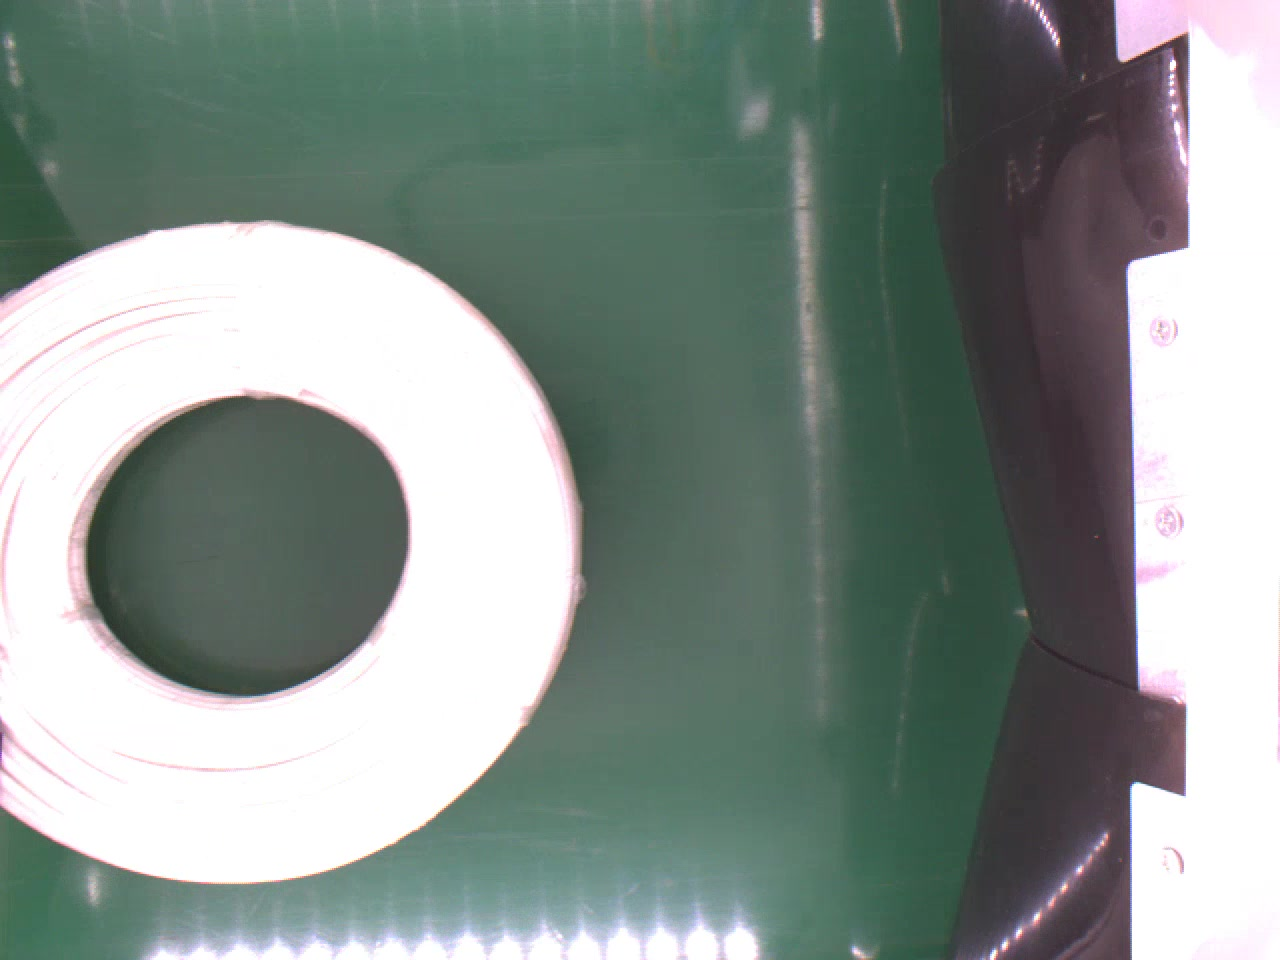white: (0, 216, 590, 889)
